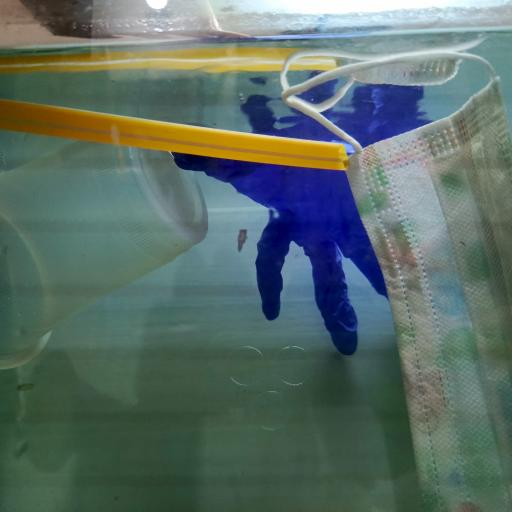glove: (178, 101, 437, 352)
mask: (284, 53, 512, 512)
plastic_cup: (0, 138, 208, 367)
plastic_straw: (0, 96, 350, 170)
